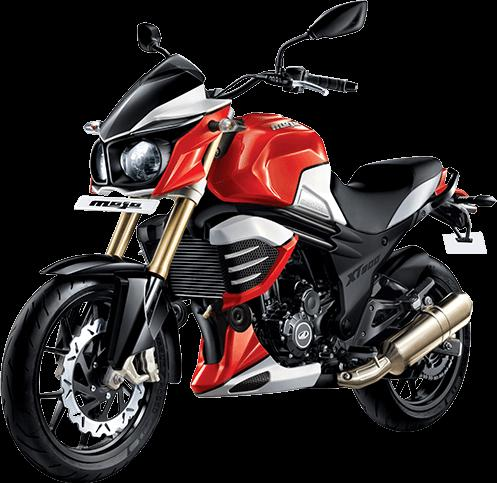motorbike: (1, 1, 494, 483)
